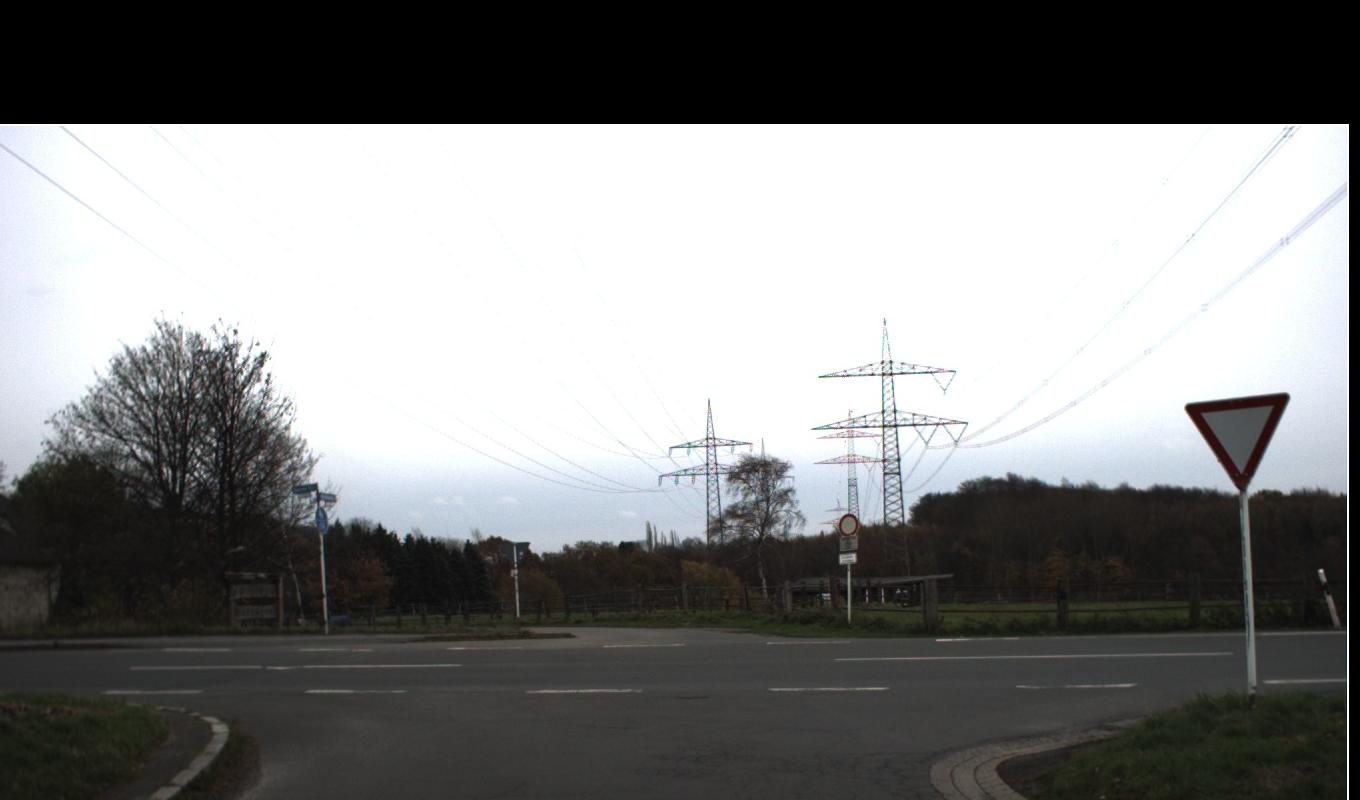no traffic both ways: (837, 391, 1291, 537)
